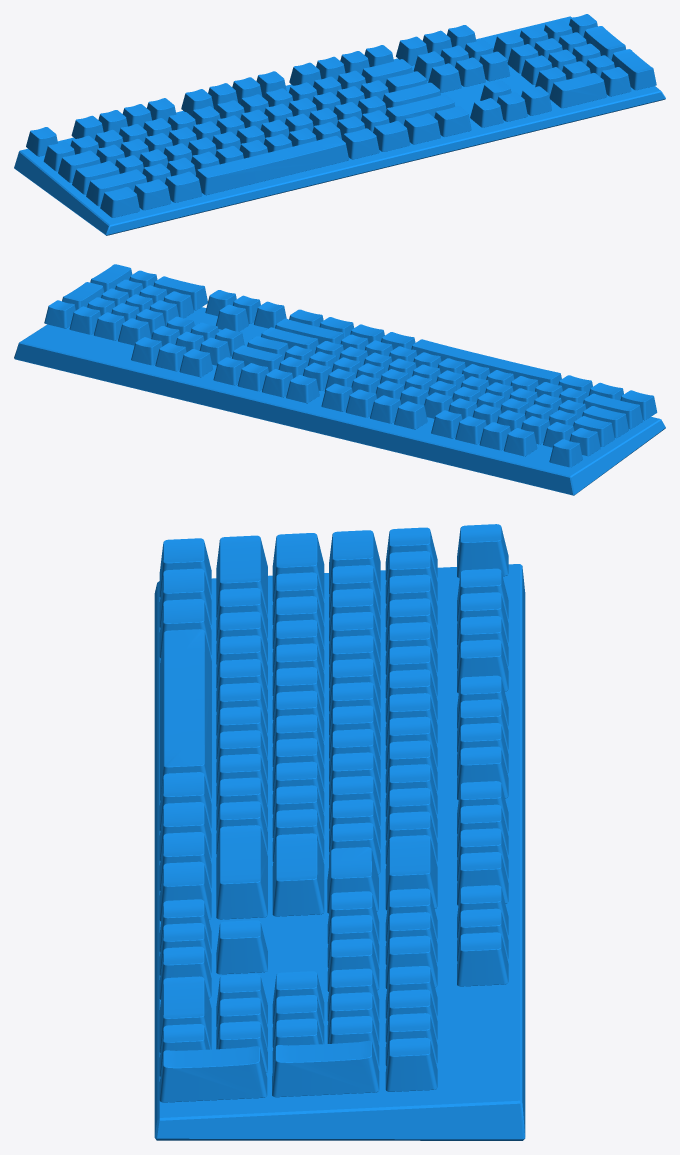
File: keyboard-transparent5.glb
3 views of the same model, one above another, from view 1: azimuth 30°, elevation 25°; view 2: azimuth 150°, elevation 25°; view 3: azimuth 270°, elevation 25° (orthographic). The views are drawn at different scales.
Visible parts, largest first — view 1: pCube1, pCube7, pCube112, pCube113, pCube83, pCube5, pCube6, pCube17, pCube16, pCube20, pCube18, pCube21 (+93 smaller); view 2: pCube1, pCube7, pCube5, pCube83, pCube112, pCube86, pCube22, pCube2, pCube29, pCube37, pCube33, pCube84 (+51 smaller); view 3: pCube1, pCube7, pCube113, pCube114, pCube83, pCube84, pCube86, pCube5, pCube111, pCube97, pCube35, pCube112 (+93 smaller).
Boxes of the visible parts, x1,y1,x2,y2 form: pCube1: (14, 16, 665, 235); pCube7: (196, 135, 348, 195); pCube112: (549, 73, 606, 108); pCube113: (611, 49, 656, 90); pCube83: (385, 94, 454, 124); pCube5: (86, 169, 146, 206); pCube6: (100, 187, 139, 217); pCube17: (165, 171, 202, 202); pCube16: (133, 179, 171, 210); pCube20: (404, 113, 440, 144); pCube18: (342, 128, 379, 159); pCube21: (434, 106, 471, 136); pCube1: (14, 307, 665, 495); pCube7: (411, 339, 561, 385); pCube5: (583, 393, 642, 429); pCube83: (275, 318, 344, 344); pCube112: (153, 276, 207, 310); pCube86: (232, 345, 283, 372); pCube22: (503, 428, 537, 456); pCube2: (549, 439, 582, 467); pCube29: (394, 401, 427, 429); pCube37: (179, 349, 212, 377); pCube33: (286, 375, 319, 403); pCube84: (261, 327, 318, 354); pCube1: (154, 564, 525, 1140); pCube7: (160, 629, 211, 800); pCube113: (159, 1046, 267, 1102); pCube114: (272, 1040, 379, 1097); pCube83: (216, 825, 267, 919); pCube84: (272, 833, 324, 916); pCube86: (385, 835, 437, 910); pCube5: (216, 535, 267, 617); pCube111: (385, 1037, 437, 1091); pCube97: (216, 920, 267, 974); pCube35: (457, 932, 508, 986); pCube112: (159, 976, 211, 1052).
Bounding box in the file's own units: 1.44 × 0.0982 × 0.412.
